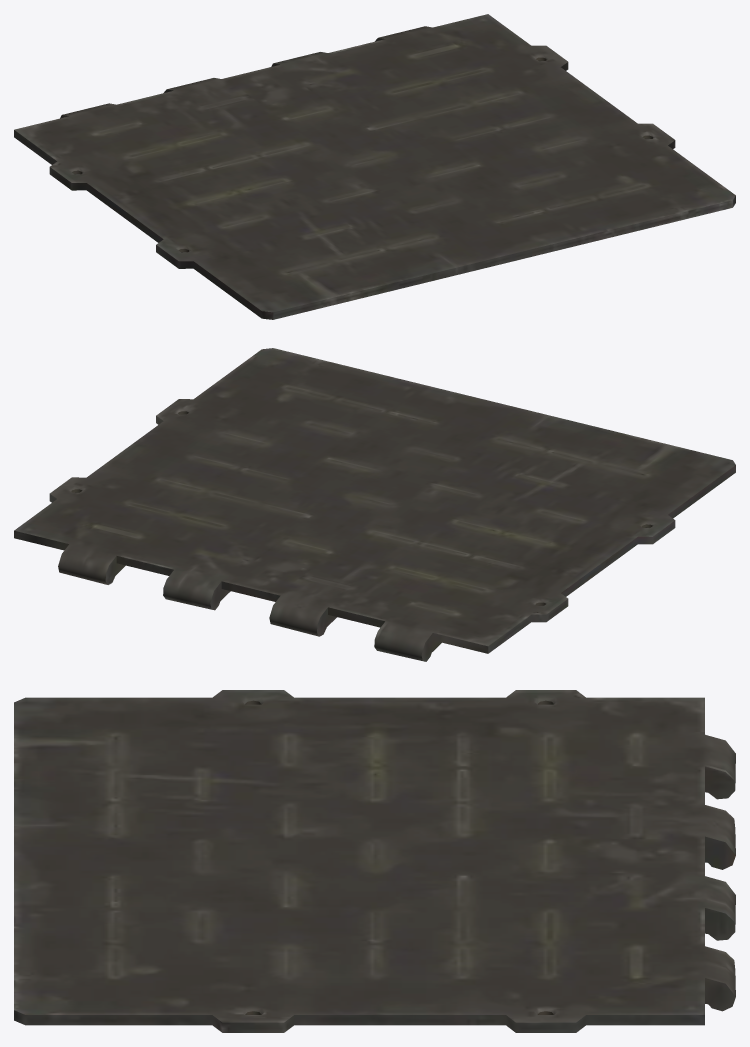
File: ferry_ramp_flap_b.glb
3 views of the same model, one above another, from view 1: azimuth 30°, elevation 25°; view 2: azimuth 150°, elevation 25°; view 3: azimuth 270°, elevation 25° (orthographic). The views are drawn at different scales.
Visible parts, largest first — view 1: ferry_ramp_flap_b; view 2: ferry_ramp_flap_b; view 3: ferry_ramp_flap_b.
Boxes of the visible parts, x1,y1,x2,y2 form: ferry_ramp_flap_b: [14, 14, 735, 319]; ferry_ramp_flap_b: [14, 348, 735, 661]; ferry_ramp_flap_b: [14, 690, 735, 1032].
Bounding box in the file's own units: 1.72 × 0.0808 × 1.58.
Materials: 1 (1 with a texture image).
